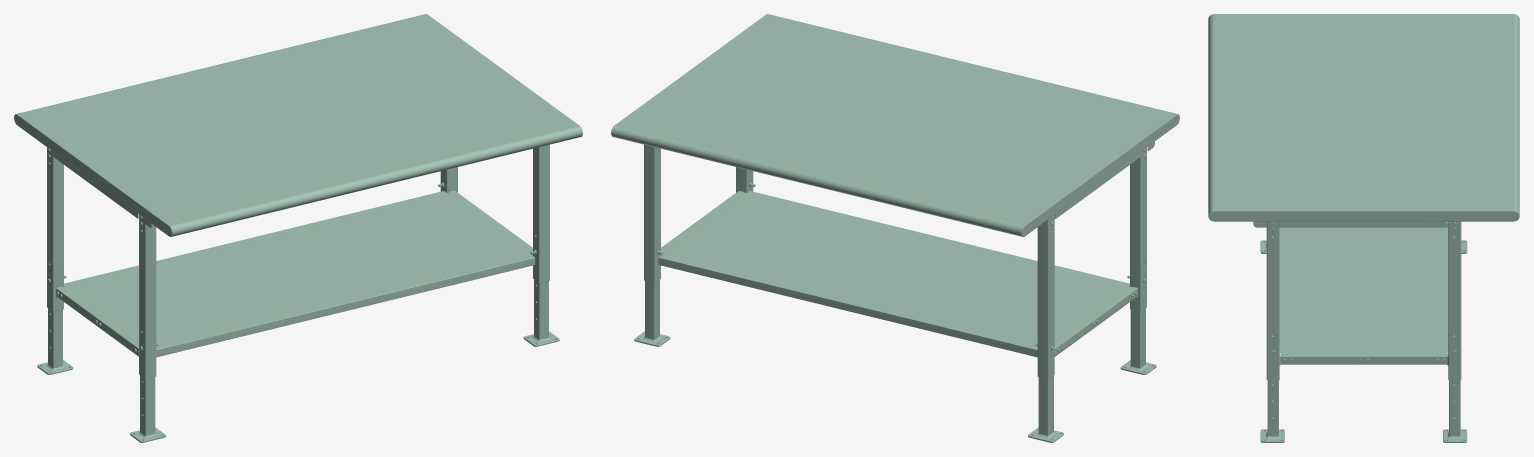
Rendered from table_packing_heavyduty_c01.glb.
3 views of the same model, side by side, from view 1: azimuth 30°, elevation 25°; view 2: azimuth 150°, elevation 25°; view 3: azimuth 270°, elevation 25° (orthographic).
Parts seen in each view (by area): view 1: sm_table_packing_heavyduty_c01_mesh_00; view 2: sm_table_packing_heavyduty_c01_mesh_00; view 3: sm_table_packing_heavyduty_c01_mesh_00.
Part boxes in pixels (x1,y1,x2,y2): sm_table_packing_heavyduty_c01_mesh_00: (14, 14, 582, 442); sm_table_packing_heavyduty_c01_mesh_00: (611, 14, 1179, 442); sm_table_packing_heavyduty_c01_mesh_00: (1208, 14, 1519, 442).
Size of the model in its own units: 1.87 by 0.9941 by 1.22.
